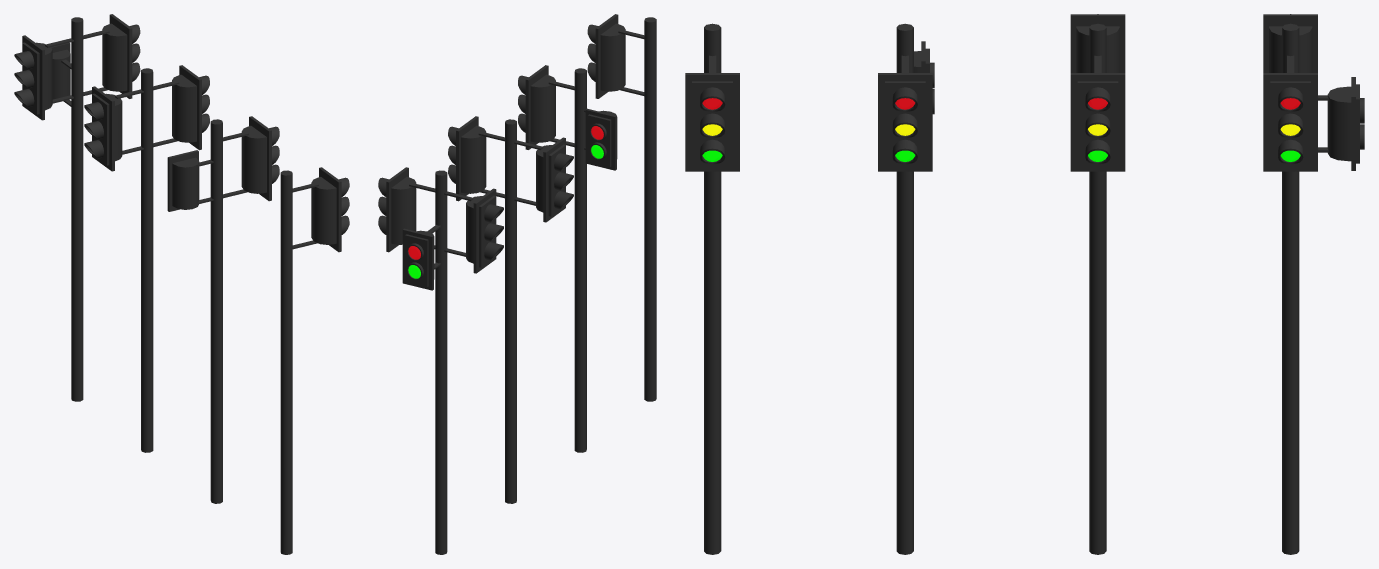
File: traffic_lights.glb
3 views of the same model, side by side, from view 1: azimuth 30°, elevation 25°; view 2: azimuth 150°, elevation 25°; view 3: azimuth 270°, elevation 25° (orthographic). The views are drawn at different scales.
Parts seen in each view (by area): view 1: traffic_light_4, traffic_light_3, traffic_light_2, traffic_light_1; view 2: traffic_light_4, traffic_light_3, traffic_light_2, traffic_light_1; view 3: traffic_light_4, traffic_light_3, traffic_light_2, traffic_light_1.
Part boxes in pixels (<box>): traffic_light_4: <box>14,14,140,401</box>; traffic_light_3: <box>84,65,209,452</box>; traffic_light_2: <box>167,116,279,503</box>; traffic_light_1: <box>280,167,349,554</box>; traffic_light_4: <box>378,167,503,554</box>; traffic_light_3: <box>448,116,573,503</box>; traffic_light_2: <box>518,65,617,452</box>; traffic_light_1: <box>587,14,656,401</box>; traffic_light_4: <box>1263,14,1364,554</box>; traffic_light_3: <box>1070,14,1125,554</box>; traffic_light_2: <box>878,23,934,554</box>; traffic_light_1: <box>685,23,739,554</box>.
Bounding box in the file's own units: 1.01 × 3 × 3.53.
